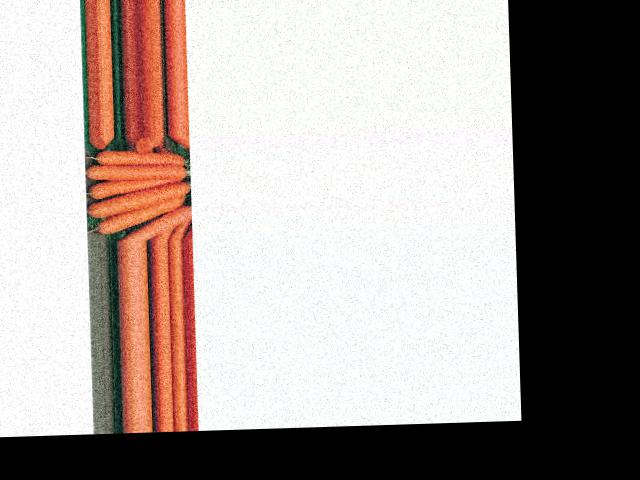carrot: (83, 180, 190, 214)
